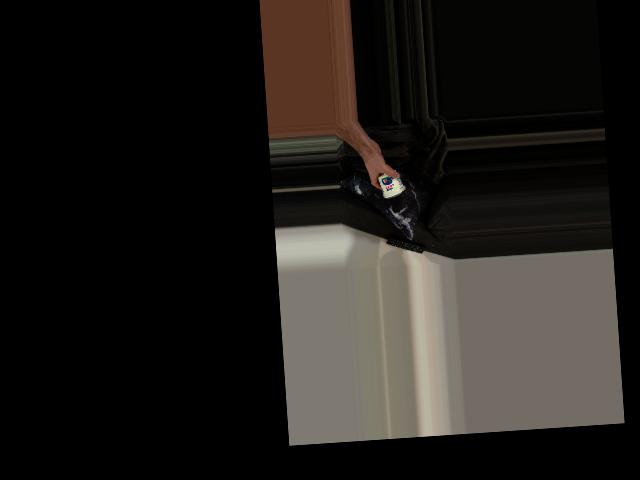cotage: (373, 165, 407, 202)
